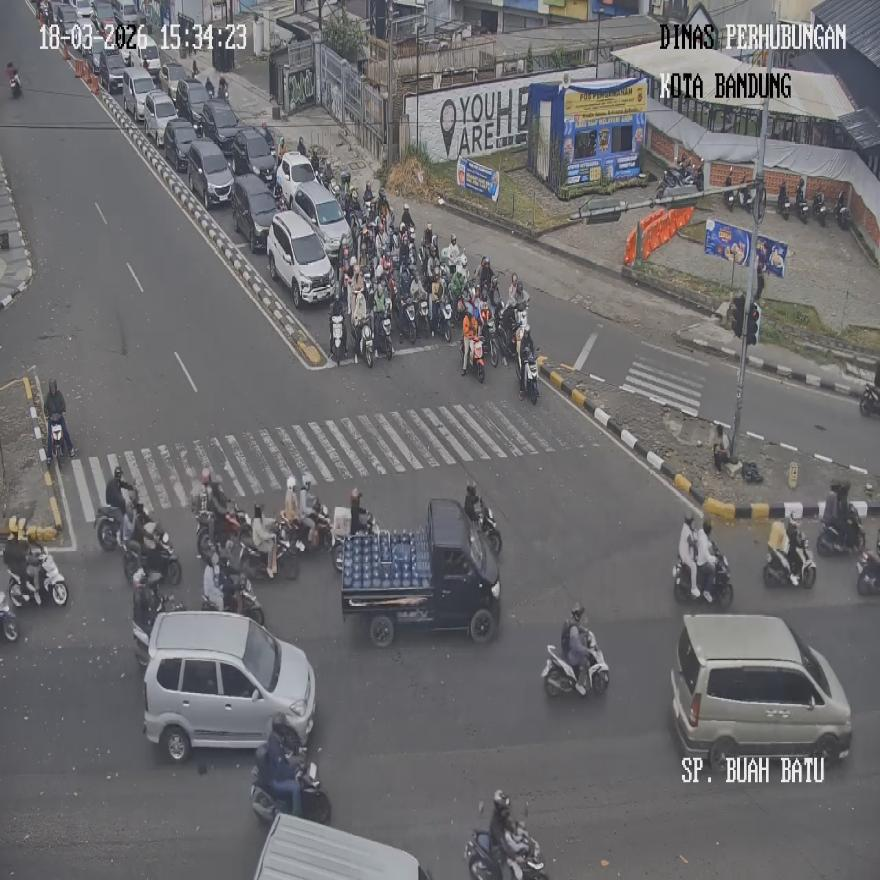Motor: (670, 611, 851, 768), (142, 608, 316, 762), (338, 498, 500, 646), (253, 808, 432, 880), (267, 210, 336, 306), (291, 179, 350, 261)
Truk: (465, 799, 548, 880), (250, 762, 332, 828), (543, 629, 609, 698), (133, 590, 184, 667), (8, 545, 68, 606), (124, 524, 182, 586), (674, 548, 732, 608), (201, 574, 264, 626), (195, 498, 244, 564), (764, 528, 817, 588), (238, 530, 300, 580), (333, 507, 377, 572), (94, 493, 136, 551), (818, 511, 864, 555), (476, 500, 502, 555), (856, 538, 880, 594), (462, 332, 485, 382), (518, 354, 539, 404), (47, 418, 66, 469), (355, 316, 374, 366), (0, 594, 19, 643), (712, 423, 729, 473), (741, 180, 763, 217), (329, 314, 345, 364), (400, 298, 417, 345), (858, 381, 880, 417), (434, 297, 452, 341), (377, 313, 393, 359), (7, 62, 23, 99), (724, 170, 737, 211), (836, 190, 848, 228), (813, 191, 826, 226), (779, 183, 791, 220), (797, 188, 808, 222)
